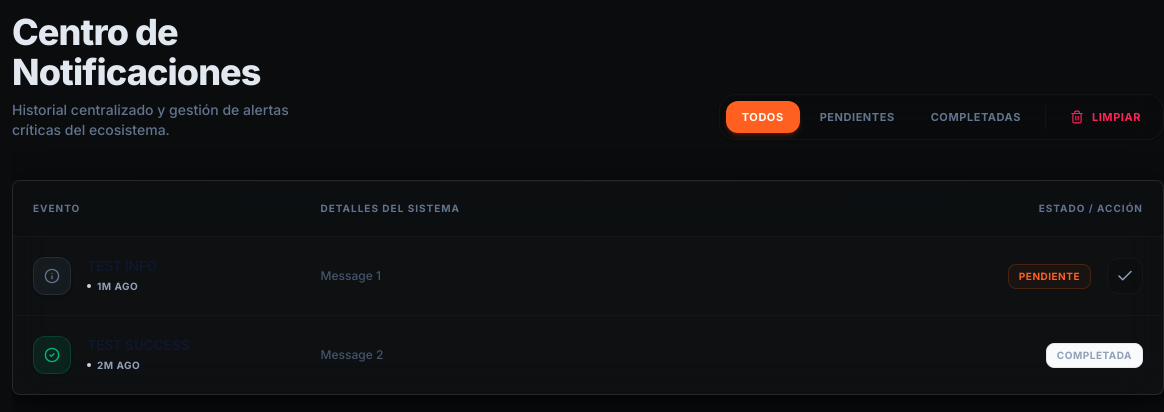
NotificationCenterPage › filters notifications by status
Check: the text "Test Info" is shown, box [87,258,157,272]
Check: the text "Test Success" is shown, box [87,338,189,352]
# Filter by pending
Click the button "Pendientes": (857, 117) [804,100,911,133]
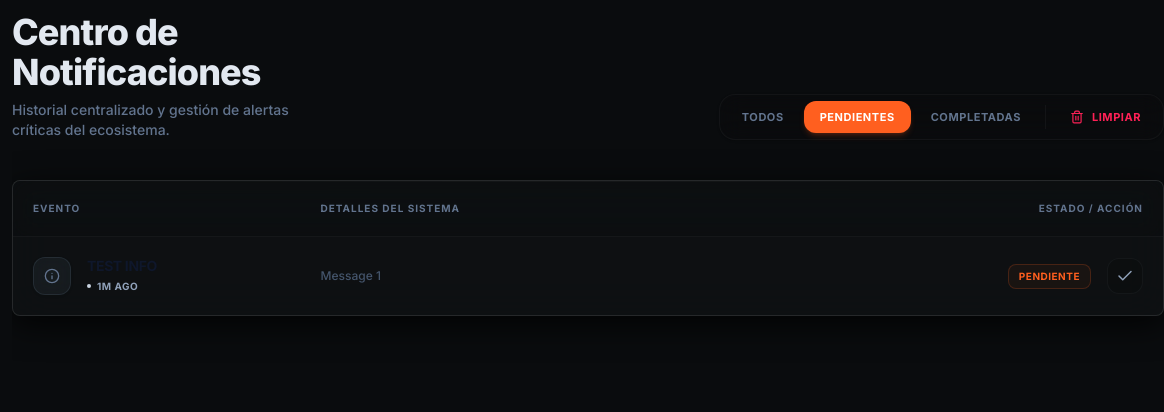
Check: the text "Test Info" is shown, box [87,258,157,272]
Check: the text "Test Success" is gone
# Filter by done
Click the button "Completadas": (976, 117) [915,100,1037,133]
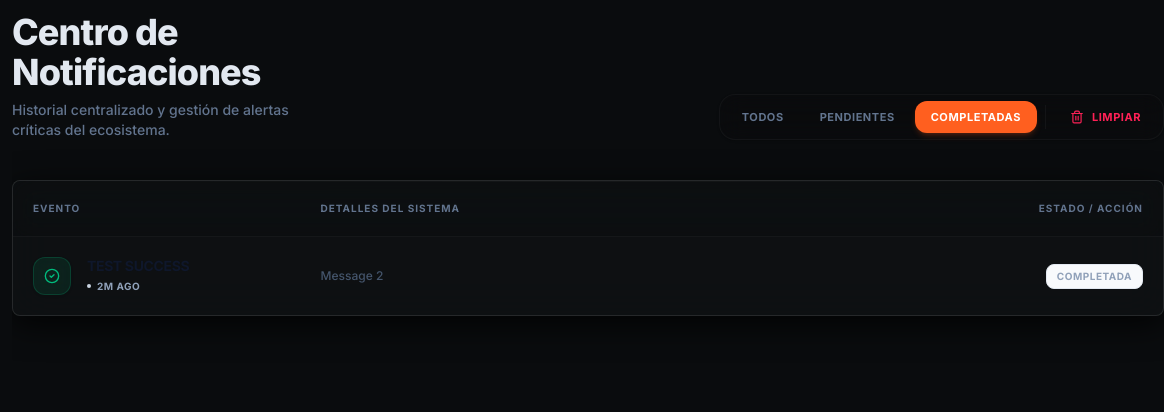
Check: the text "Test Info" is gone
Check: the text "Test Success" is shown, box [87,258,189,272]
